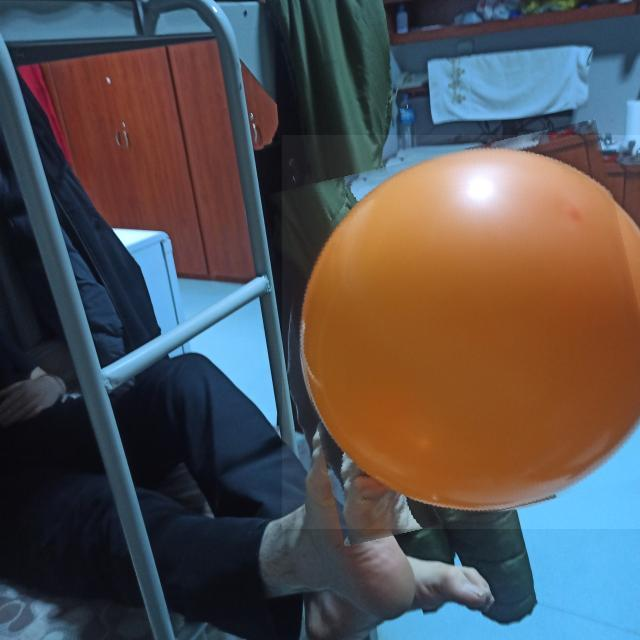balloon: (282, 135, 640, 529)
